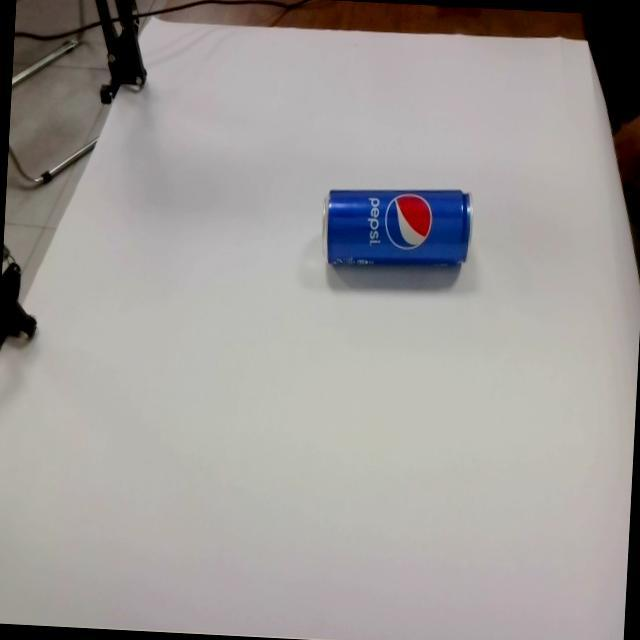debris: (322, 181, 474, 280)
